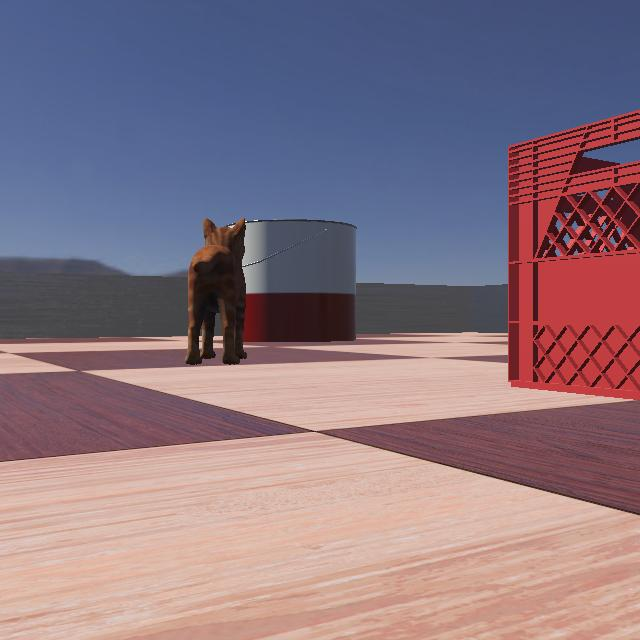cat: (153, 176, 253, 372), (153, 176, 253, 372), (153, 176, 253, 372)
paint-bucket: (174, 213, 362, 343), (174, 213, 362, 343)
plastic-crate: (480, 59, 640, 418)
